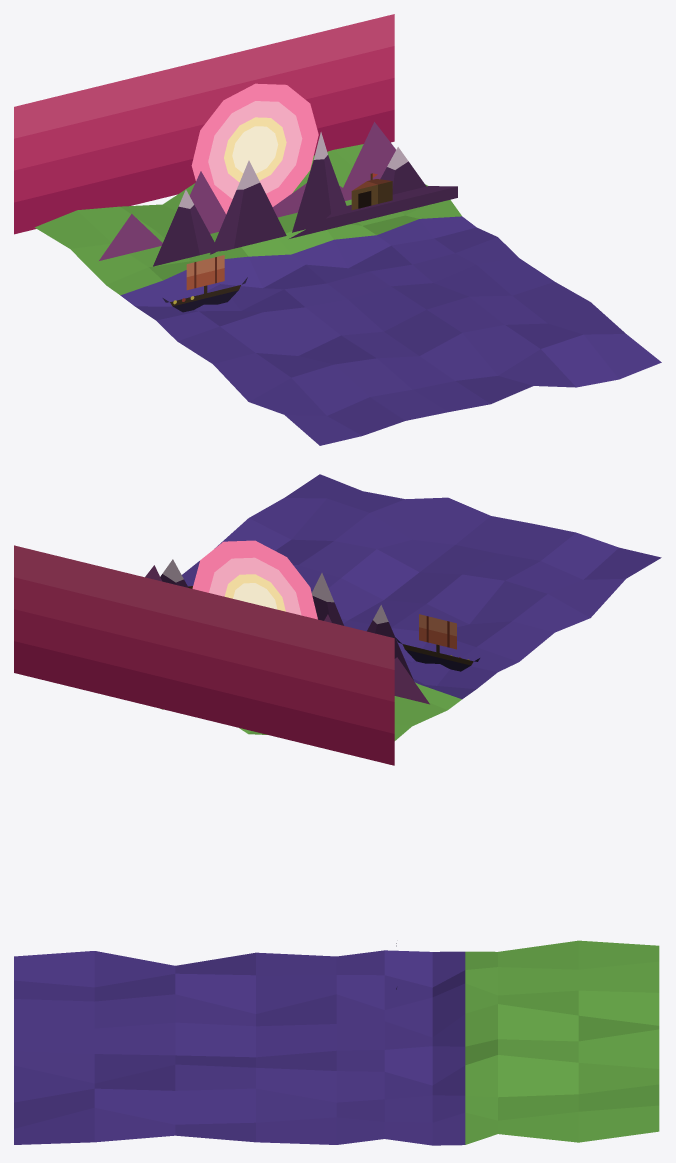
File: diorama.glb
The picture shows the model from 3 angles, top to bottom: view 1: azimuth 30°, elevation 25°; view 2: azimuth 150°, elevation 25°; view 3: azimuth 270°, elevation 25°; orthographic projection. The views are drawn at different scales.
Parts seen in each view (by area): view 1: terrain, sky, sun, near.mountains, far.mountains, bluff, longship, house; view 2: sky, terrain, sun, near.mountains, longship, far.mountains; view 3: terrain.
Boxes of the visible parts, left/top/right/bottom form: terrain: left=34, top=144, right=661, bottom=445; sky: left=14, top=14, right=394, bottom=234; sun: left=191, top=83, right=318, bottom=214; near.mountains: left=153, top=132, right=426, bottom=266; far.mountains: left=99, top=122, right=395, bottom=260; bluff: left=289, top=186, right=457, bottom=238; longship: left=162, top=255, right=247, bottom=312; house: left=351, top=173, right=392, bottom=210; sky: left=14, top=545, right=394, bottom=765; terrain: left=160, top=474, right=661, bottom=740; sun: left=192, top=540, right=317, bottom=619; near.mountains: left=160, top=559, right=413, bottom=680; longship: left=395, top=614, right=479, bottom=671; far.mountains: left=145, top=565, right=429, bottom=704; terrain: left=14, top=940, right=659, bottom=1145.
Size of the model in its own units: 11.47 by 4.55 by 14.97.
